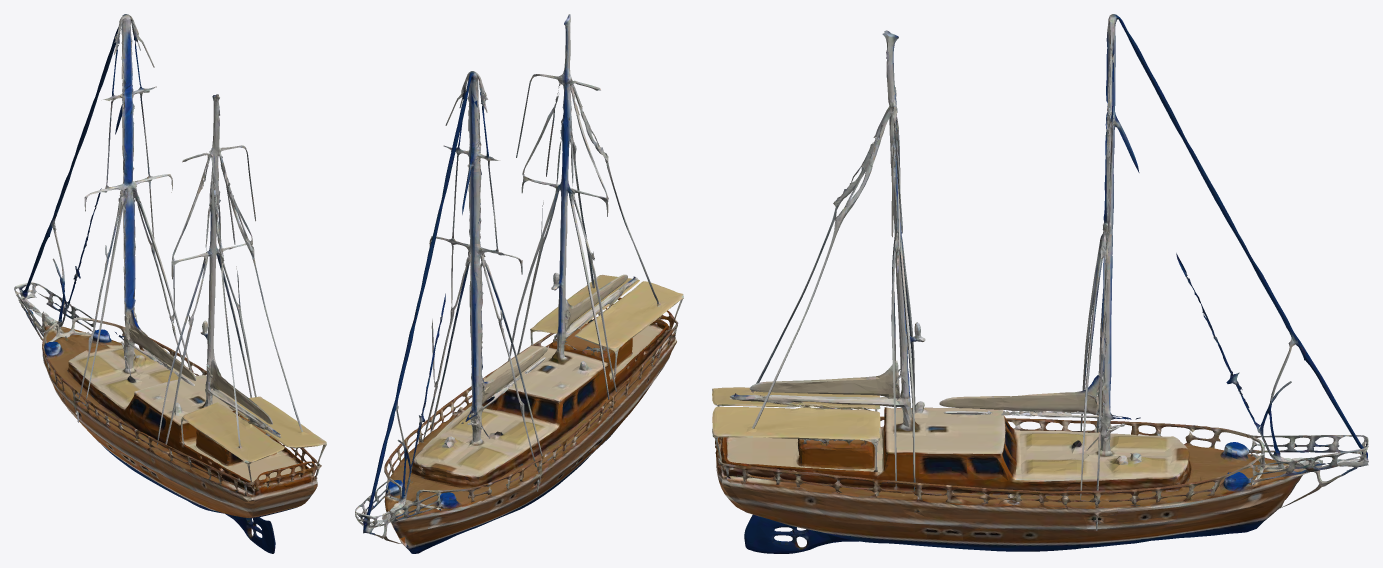
File: yacht.glb
3 renders of one model, left to right at view 1: azimuth 30°, elevation 25°; view 2: azimuth 150°, elevation 25°; view 3: azimuth 270°, elevation 25°, orthographic. The views are drawn at different scales.
Visible parts, largest first — view 1: tripo_mesh_f6f3964d-a761-4c1b-bb53-6d4518965e52; view 2: tripo_mesh_f6f3964d-a761-4c1b-bb53-6d4518965e52; view 3: tripo_mesh_f6f3964d-a761-4c1b-bb53-6d4518965e52.
Part boxes in pixels (bbox=[...]): tripo_mesh_f6f3964d-a761-4c1b-bb53-6d4518965e52: bbox=[14, 14, 326, 553]; tripo_mesh_f6f3964d-a761-4c1b-bb53-6d4518965e52: bbox=[355, 14, 683, 553]; tripo_mesh_f6f3964d-a761-4c1b-bb53-6d4518965e52: bbox=[712, 14, 1368, 553].
Size of the model in its own units: 0.5274 by 1.81 by 2.
Materials: 1 (1 with a texture image).
